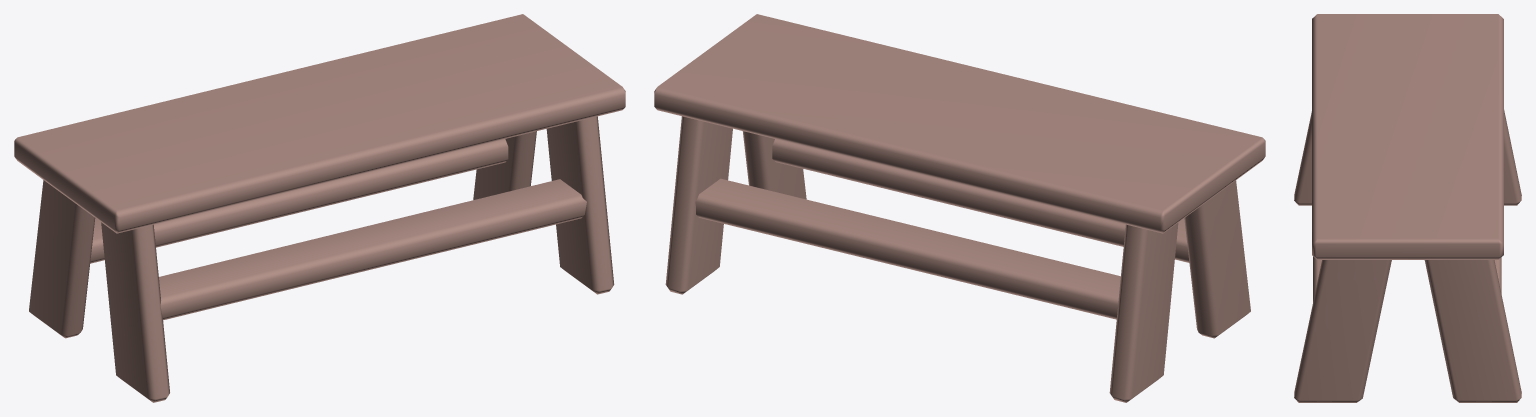
The model's file is Store_6_Bench_1.glb.
The picture shows the model from 3 angles, left to right: view 1: azimuth 30°, elevation 25°; view 2: azimuth 150°, elevation 25°; view 3: azimuth 270°, elevation 25°; orthographic projection. The views are drawn at different scales.
Parts seen in each view (by area): view 1: Store_6_Bench_1; view 2: Store_6_Bench_1; view 3: Store_6_Bench_1.
Part boxes in pixels (box(x1,y1,x2,y2)): Store_6_Bench_1: box(14, 14, 625, 402); Store_6_Bench_1: box(654, 14, 1265, 402); Store_6_Bench_1: box(1294, 14, 1521, 402).
Bounding box in the file's own units: 1.52 × 0.5458 × 0.6449.
1 material, 1 textured.
